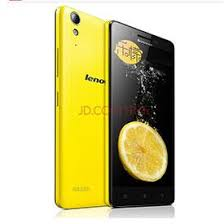lenovo: (104, 20, 174, 212), (52, 5, 109, 207)
